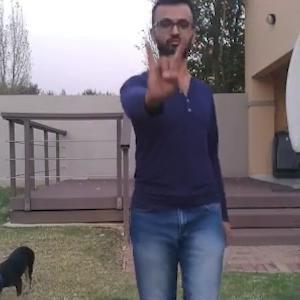takeoff-hand: (139, 31, 192, 105)
